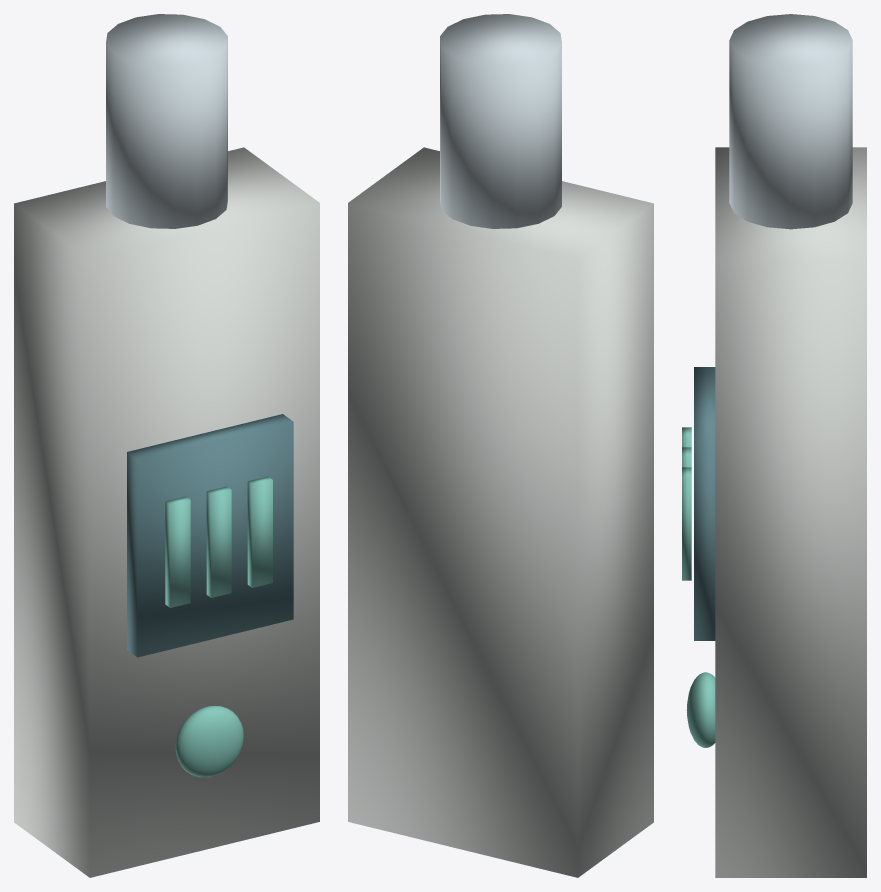
Rendered from tool-thermometer.glb.
The picture shows the model from 3 angles, left to right: view 1: azimuth 30°, elevation 25°; view 2: azimuth 150°, elevation 25°; view 3: azimuth 270°, elevation 25°; orthographic projection.
Visible parts, largest first — view 1: sensor body, temperature display, rounded sensor, power button, display bar, display bar.001, display bar.002; view 2: sensor body, rounded sensor; view 3: sensor body, rounded sensor, temperature display, power button, display bar.002.
Boxes of the visible parts, x1,y1,x2,y2 form: sensor body: (14, 147, 319, 877); temperature display: (127, 414, 293, 657); rounded sensor: (106, 14, 227, 228); power button: (175, 706, 243, 777); display bar: (165, 496, 190, 607); display bar.001: (206, 486, 231, 597); display bar.002: (247, 476, 272, 587); sensor body: (348, 147, 653, 877); rounded sensor: (440, 14, 561, 228); sensor body: (715, 147, 866, 877); rounded sensor: (729, 14, 852, 229); temperature display: (694, 367, 715, 640); power button: (686, 672, 715, 747); display bar.002: (682, 467, 691, 580).
Size of the model in its own units: 0.28 by 0.91 by 0.195.
